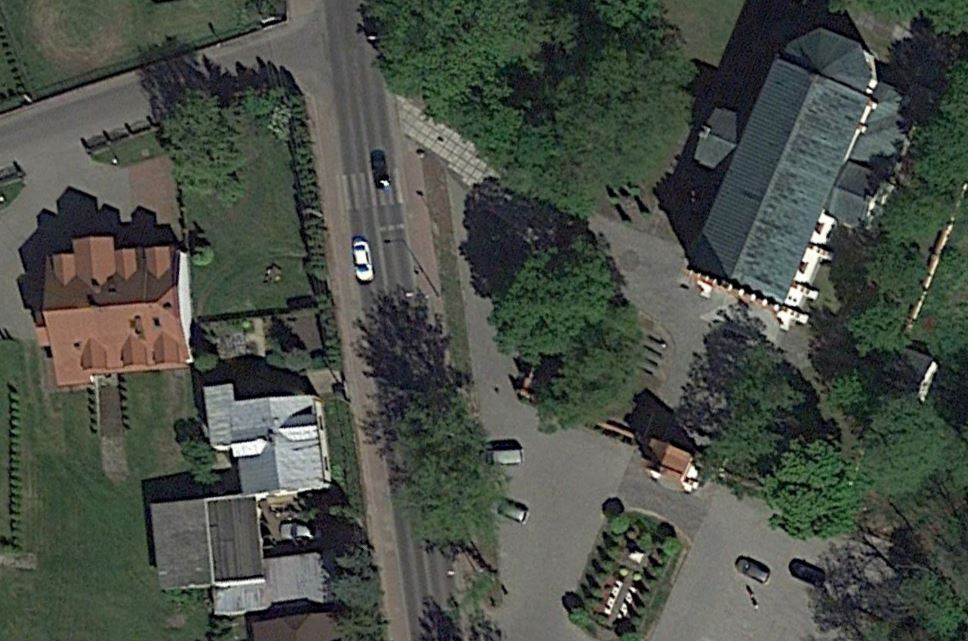church: (642, 15, 914, 346)
family house: (30, 225, 196, 390), (188, 379, 344, 507), (137, 488, 268, 601)
garage: (216, 543, 355, 615)
